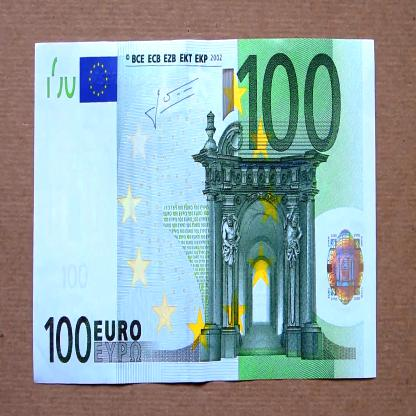euro_banknote: (35, 41, 377, 382)
